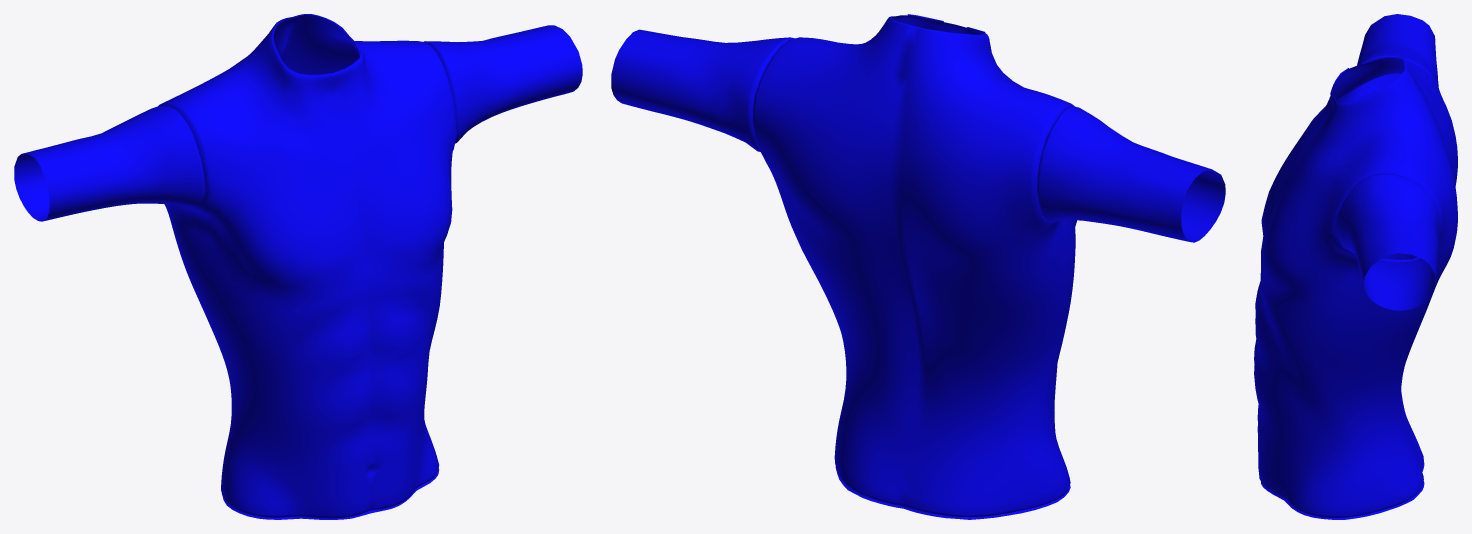
The model's file is tshirt.gltf.
3 views of the same model, side by side, from view 1: azimuth 30°, elevation 25°; view 2: azimuth 150°, elevation 25°; view 3: azimuth 270°, elevation 25° (orthographic). The views are drawn at different scales.
Parts seen in each view (by area): view 1: tshirt; view 2: tshirt; view 3: tshirt.
Boxes of the visible parts, x1,y1,x2,y2 form: tshirt: (14,14,582,519); tshirt: (611,14,1225,519); tshirt: (1254,14,1457,519).
Size of the model in its own units: 72.93 by 57.55 by 26.
